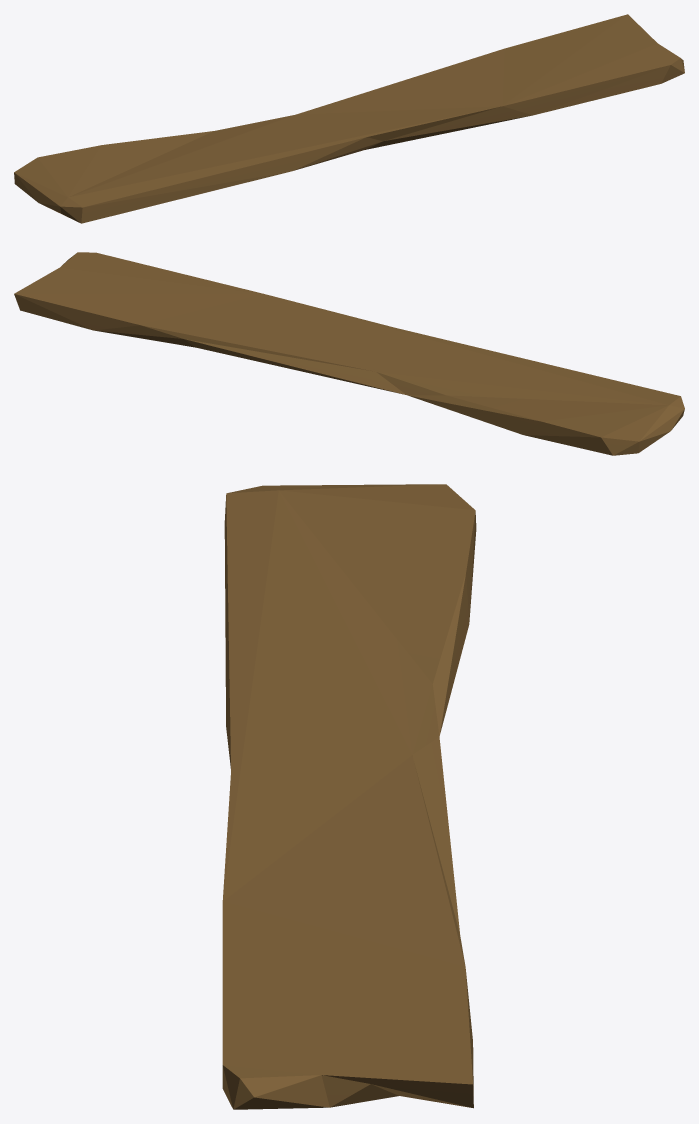
The model's file is Board_02.fbx.
The picture shows the model from 3 angles, top to bottom: view 1: azimuth 30°, elevation 25°; view 2: azimuth 150°, elevation 25°; view 3: azimuth 270°, elevation 25°; orthographic projection. The views are drawn at different scales.
Visible parts, largest first — view 1: Board_02; view 2: Board_02; view 3: Board_02.
Part boxes in pixels (left/top/right/bottom): Board_02: left=14, top=14, right=684, bottom=223; Board_02: left=14, top=252, right=684, bottom=455; Board_02: left=222, top=484, right=476, bottom=1109.
Bounding box in the file's own units: 1.82 × 0.0548 × 0.3217.
